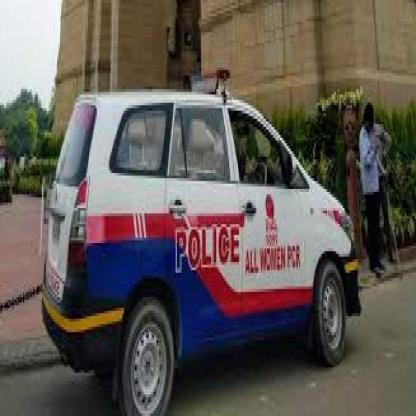priority: (30, 78, 370, 416)
